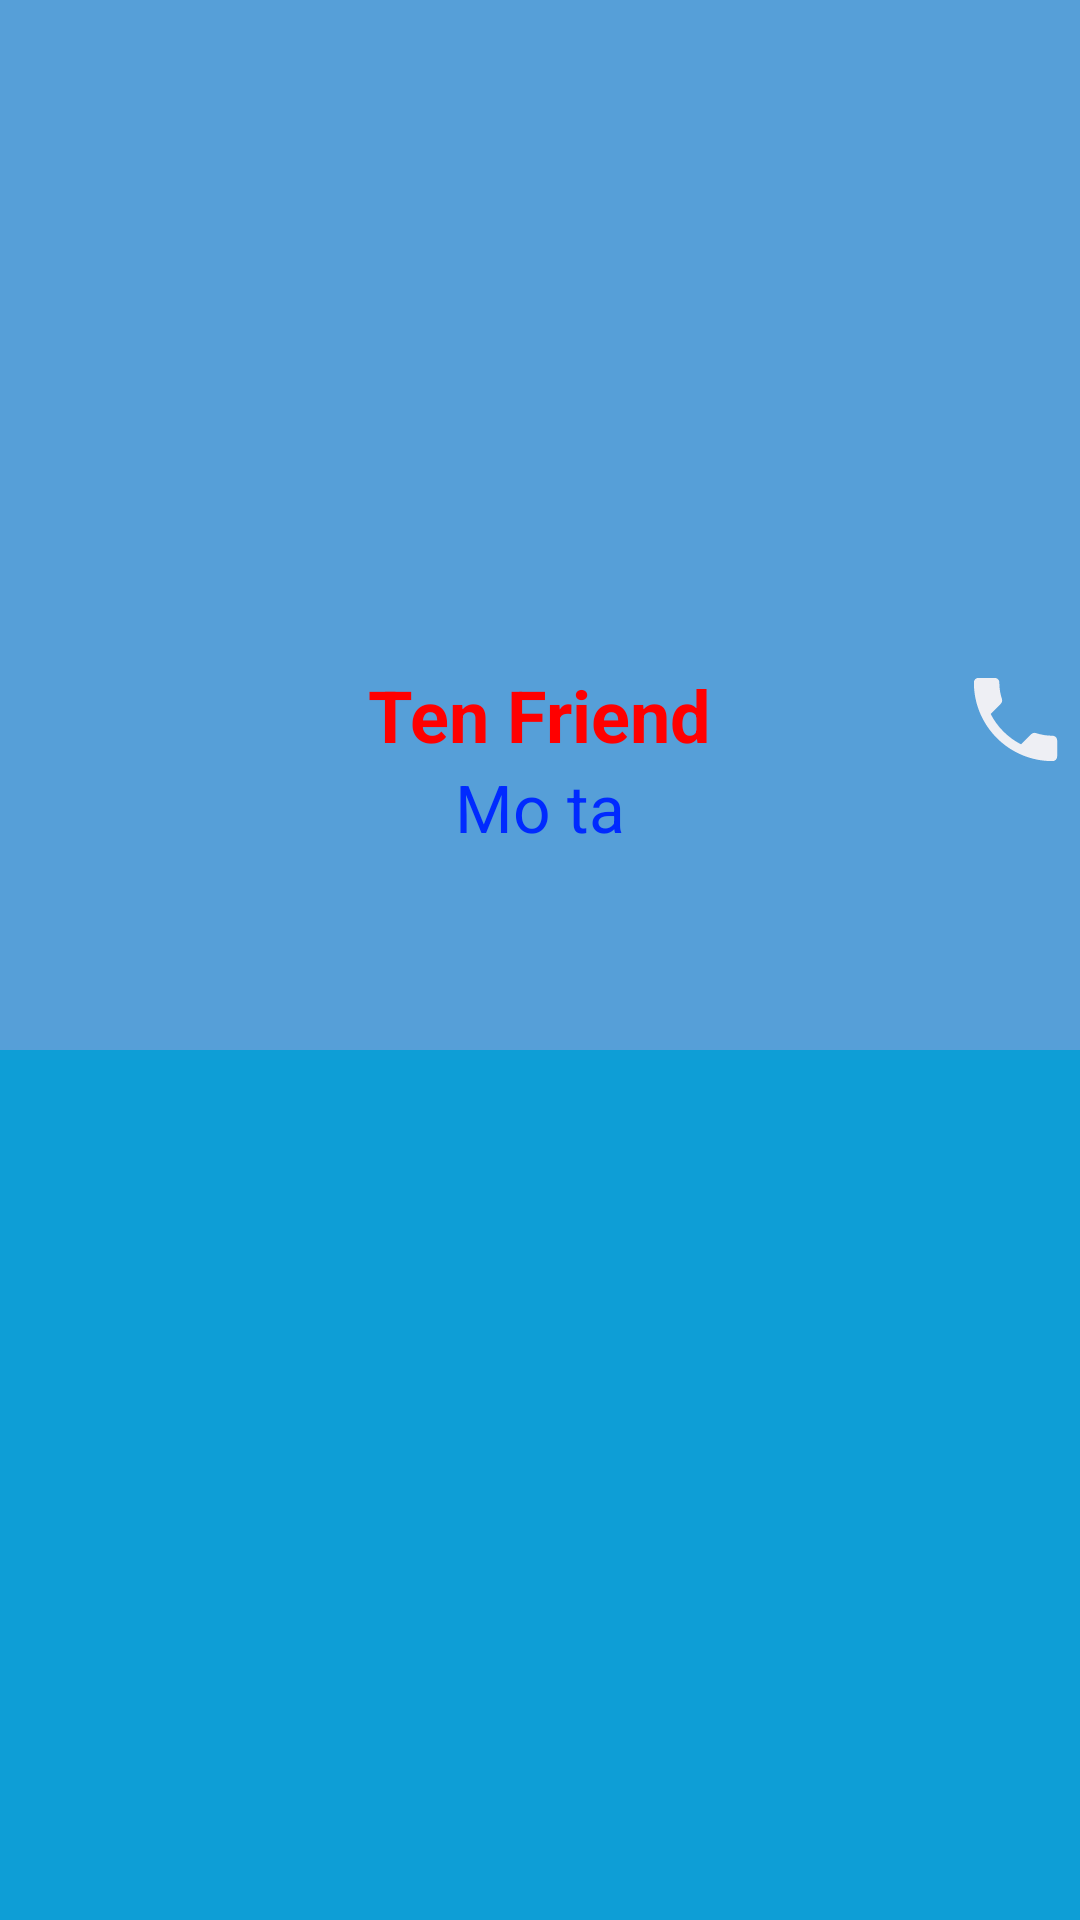

Where icons sit on this 1080x1920 app screen, as (x1, y1, x2, y2):
phone: (974, 678, 1058, 761)
